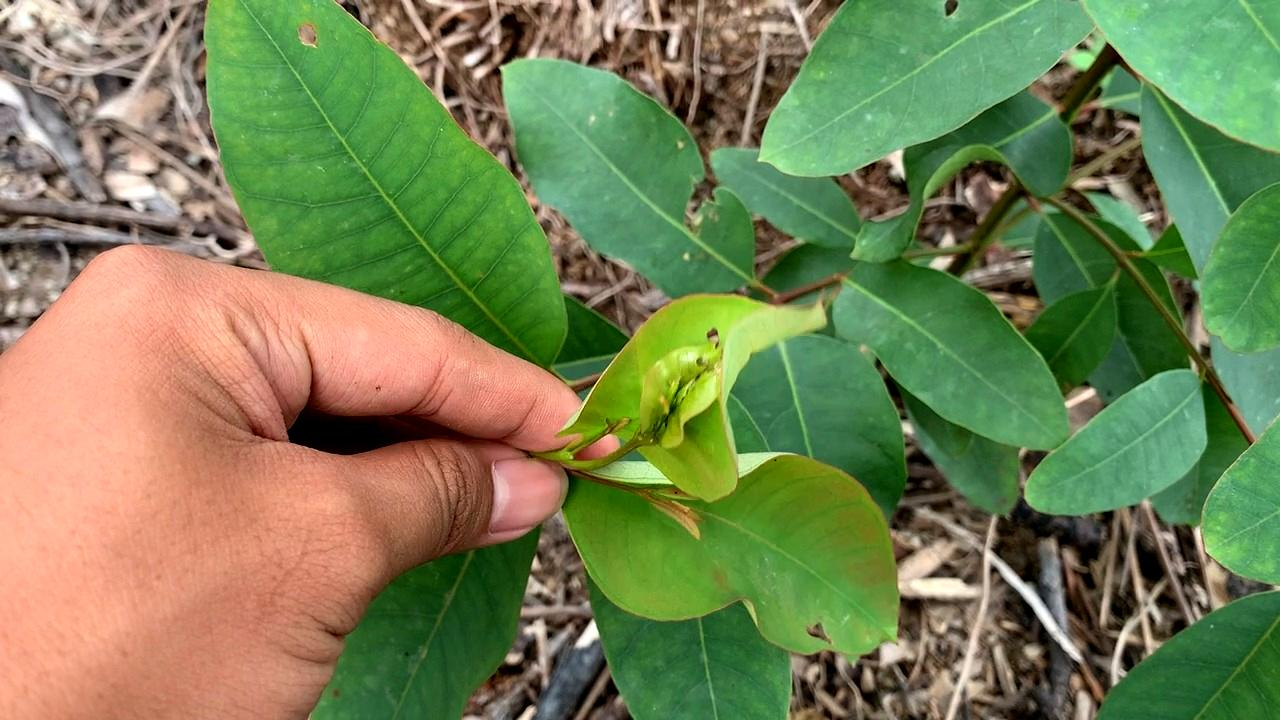Leaf Roller - Leaf: (550, 280, 839, 507)
